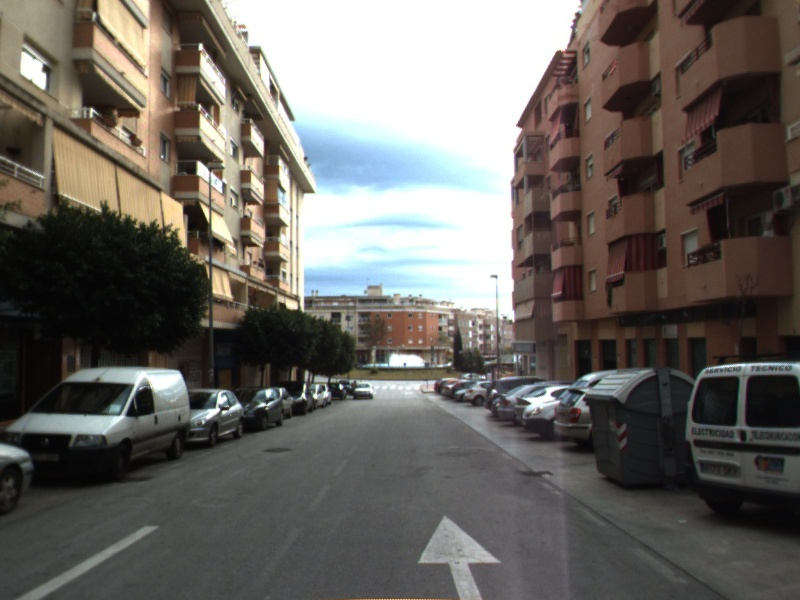STRAIGHT: (413, 510, 506, 600)
